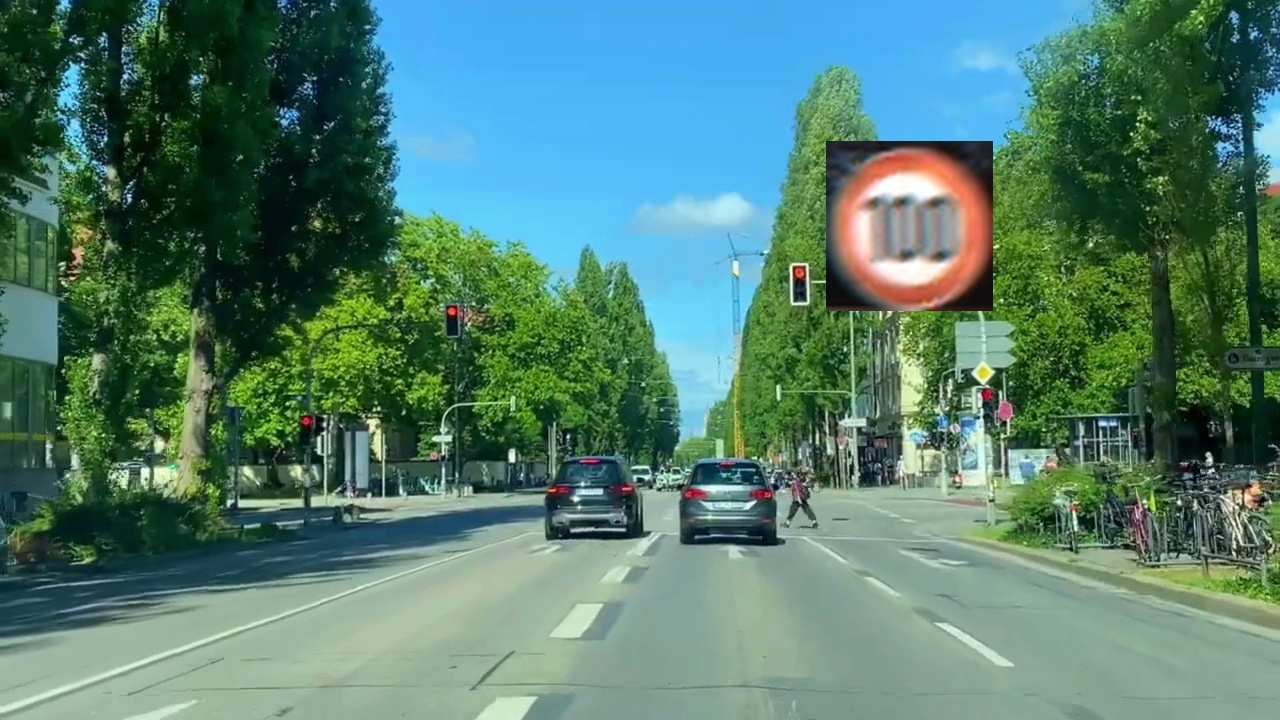Speed 100: (826, 141, 993, 311)
